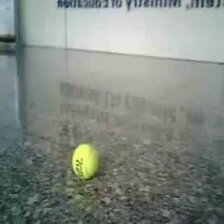tennis: (72, 143, 99, 180)
